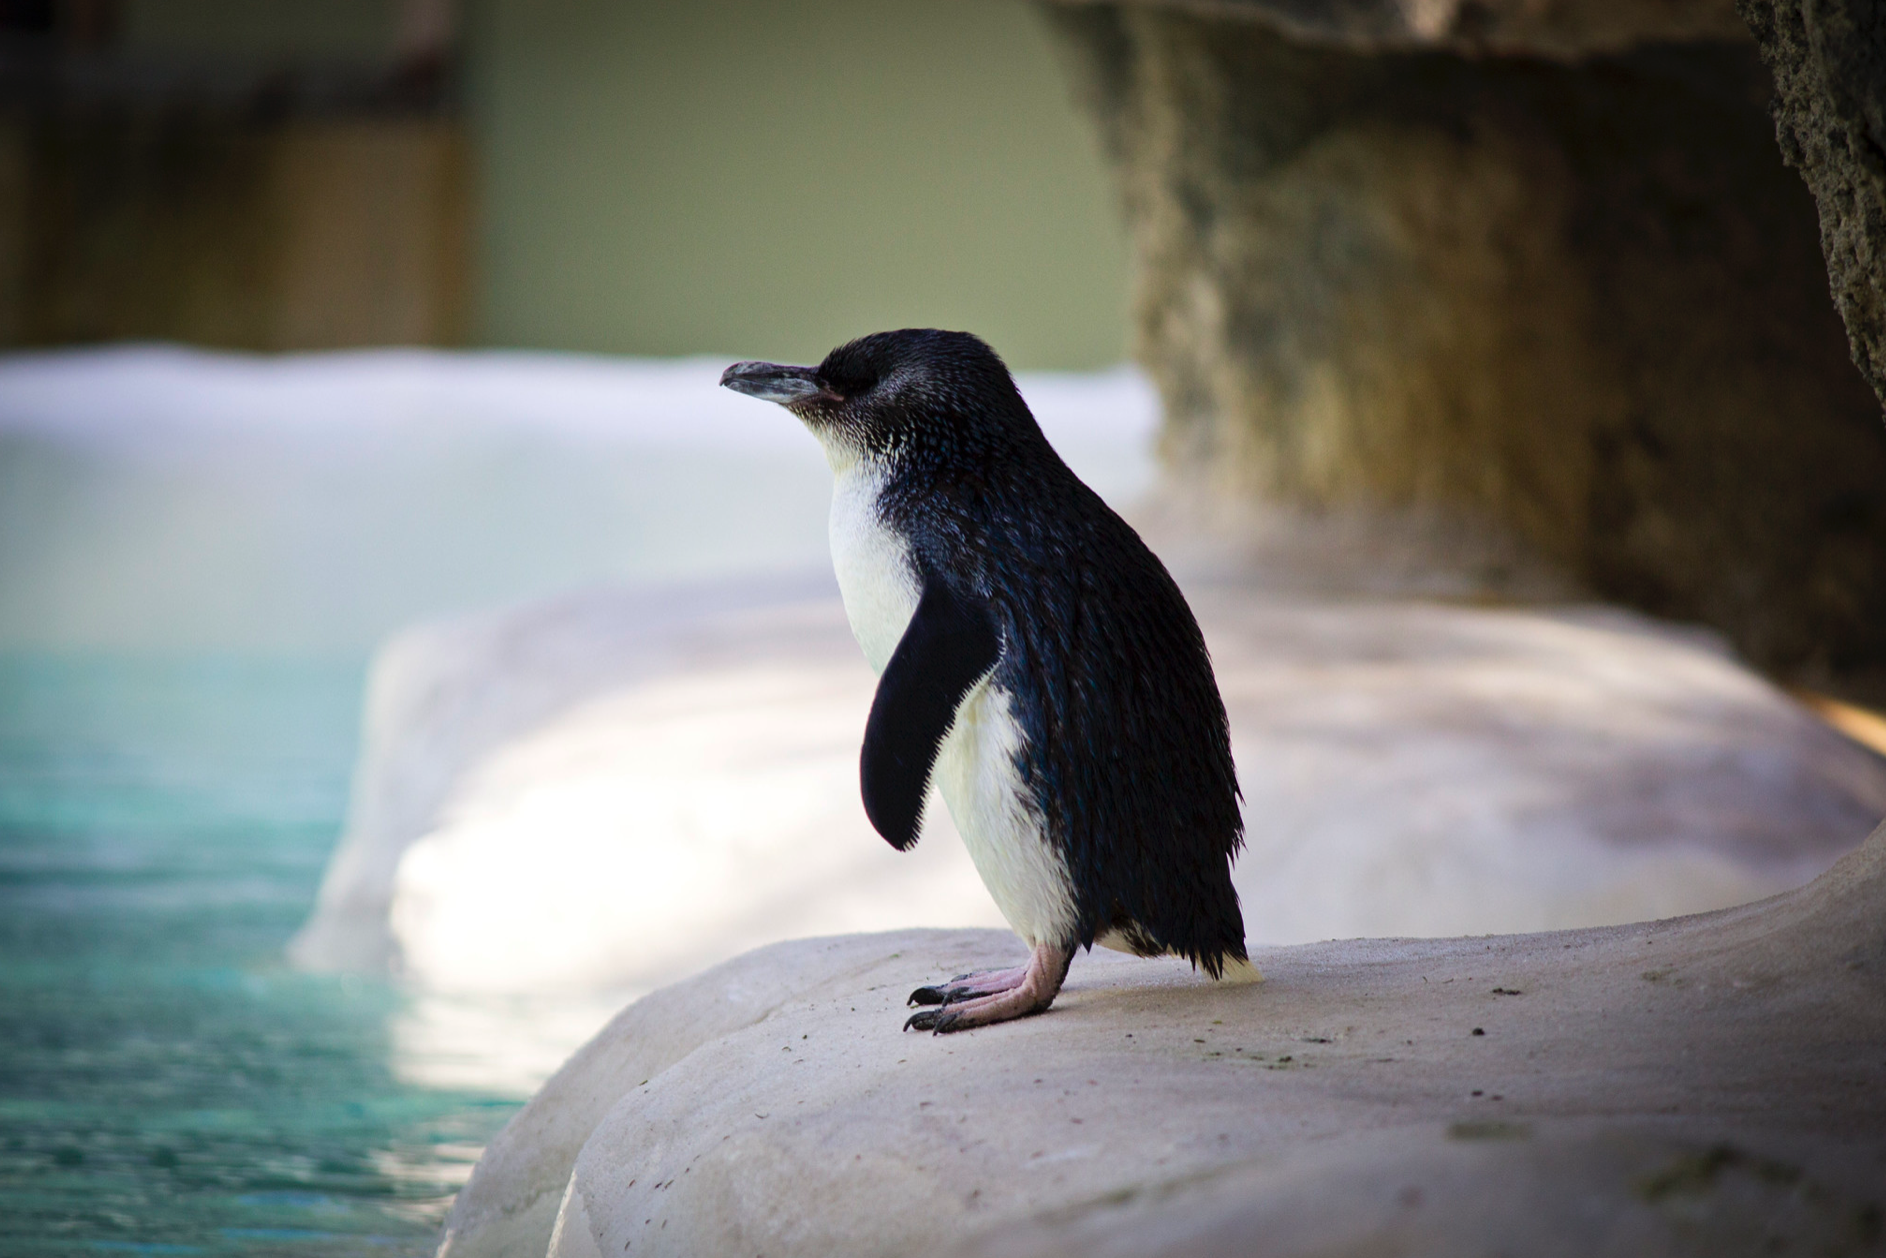penguin: (718, 320, 1263, 1053)
